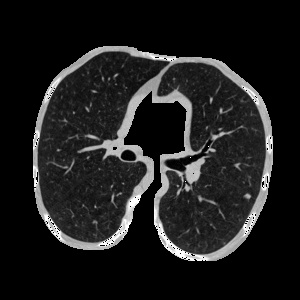PN: (245, 194, 249, 198)
